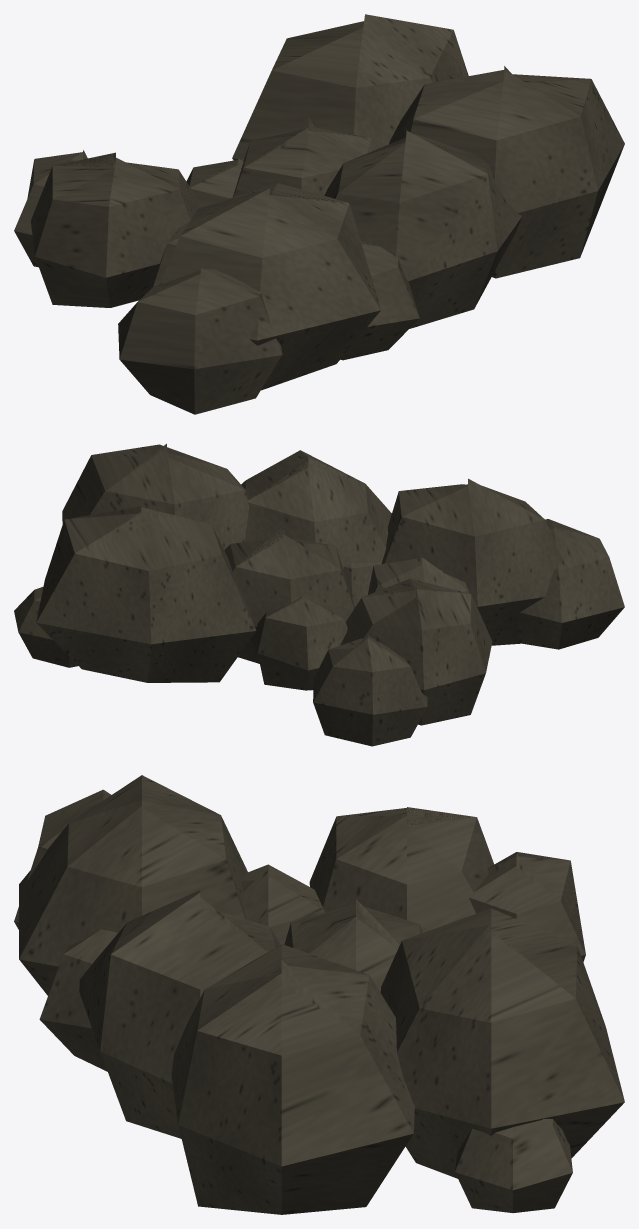
Rendered from PROP-7FF3B6AEE82E_lod2.glb.
3 views of the same model, one above another, from view 1: azimuth 30°, elevation 25°; view 2: azimuth 150°, elevation 25°; view 3: azimuth 270°, elevation 25° (orthographic). The views are drawn at different scales.
Visible parts, largest first — view 1: rock.008; view 2: rock.008; view 3: rock.008.
Boxes of the visible parts, <box> form: rock.008: <box>14,14,624,414</box>; rock.008: <box>14,443,624,746</box>; rock.008: <box>14,775,624,1214</box>.
Size of the model in its own units: 1.57 by 0.4715 by 1.16.
1 material, 1 textured.
